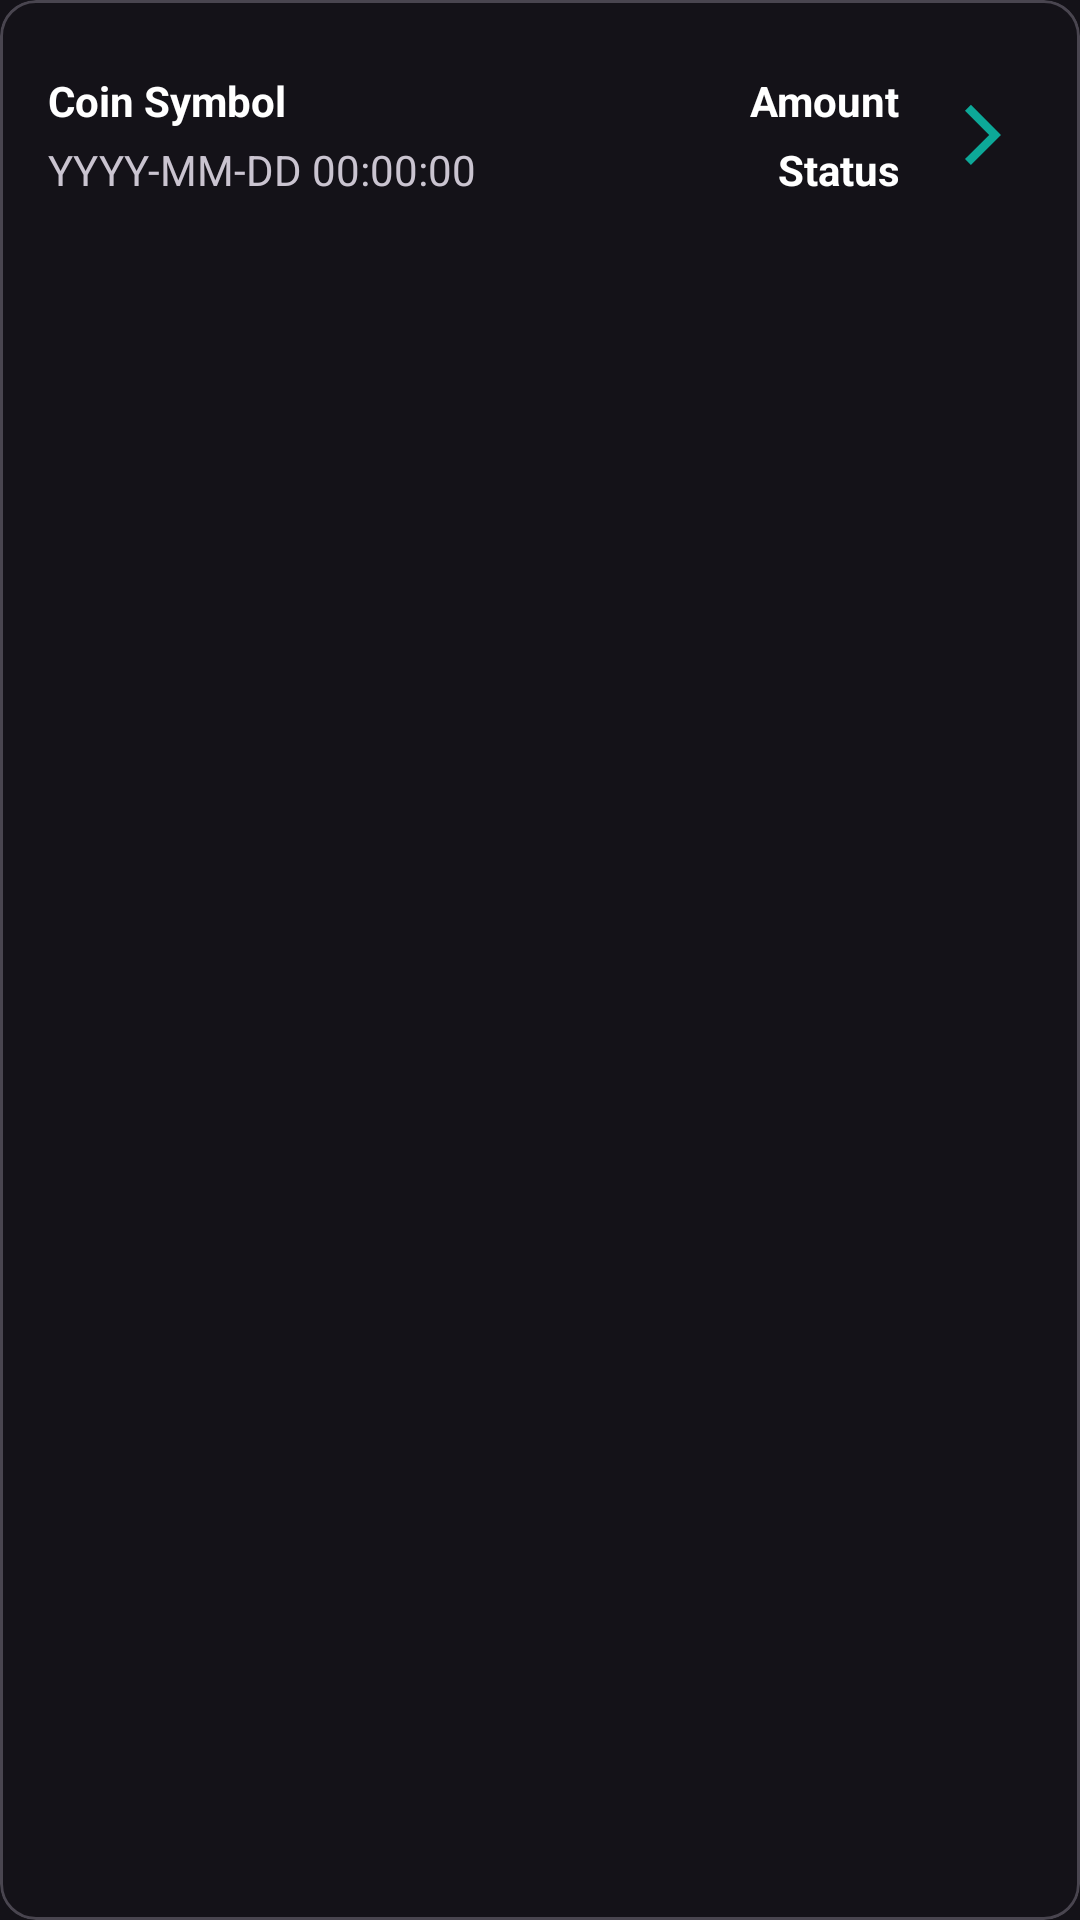

Locate icon controls on the screen. Image size 1080px×1920px, boxes as (x1, y1, x2, y2).
navigate next: (965, 105, 1001, 165)
